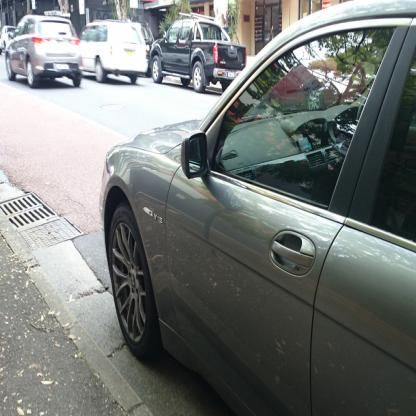Car: (97, 29, 412, 406), (151, 13, 248, 95), (6, 16, 83, 88), (80, 22, 148, 85), (141, 24, 155, 78), (2, 26, 16, 50), (1, 33, 3, 56)
